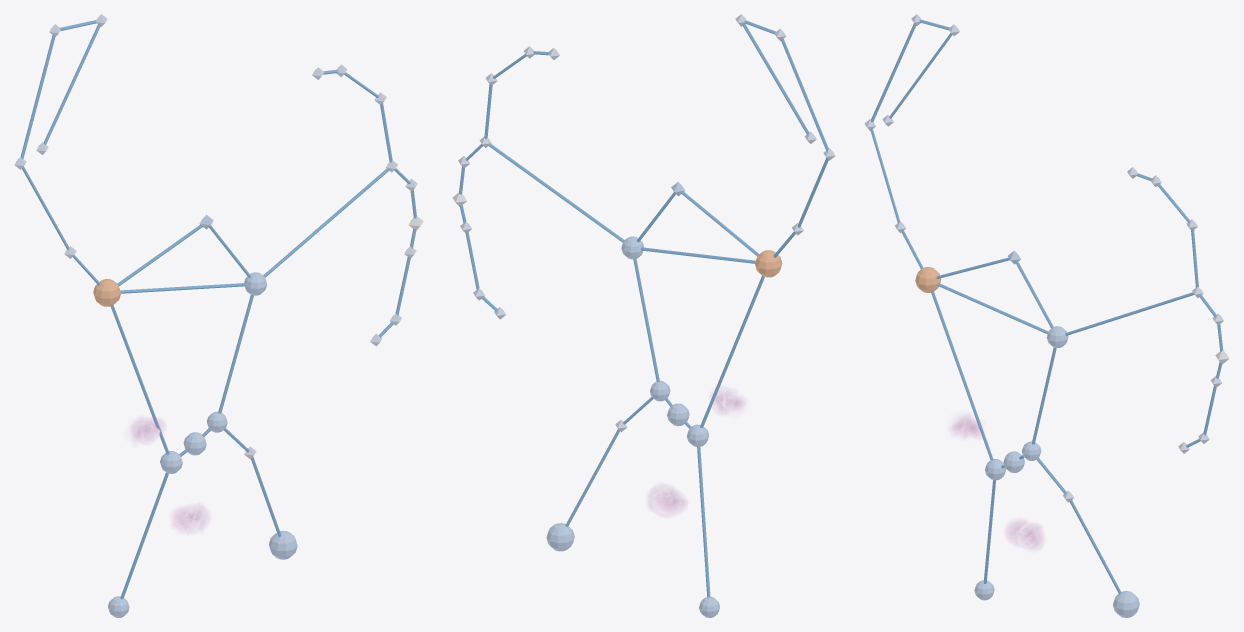
File: constellation-ori.glb
The picture shows the model from 3 angles, left to right: view 1: azimuth 30°, elevation 25°; view 2: azimuth 150°, elevation 25°; view 3: azimuth 330°, elevation 25°; orthographic projection. The views are drawn at different scales.
Size of the model in its own units: 2.17 by 3.19 by 0.3771.
